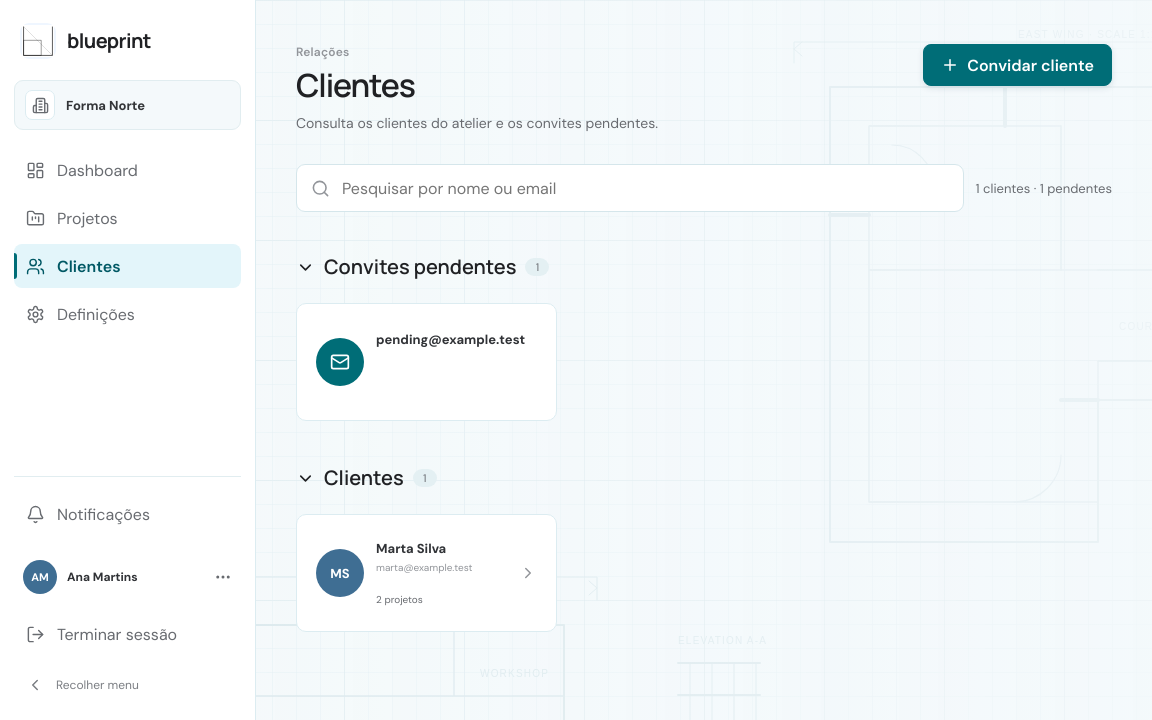
CompanyClientPage › searches both groups and shows filtered group counts and empty states
Expected: the text "pending@example.test" is shown, [376,330,525,348]
Step 1. Type "missing" into the search field with placeholder "Pesquisar por nome ou email" → (644, 188), box [340,166,948,210]
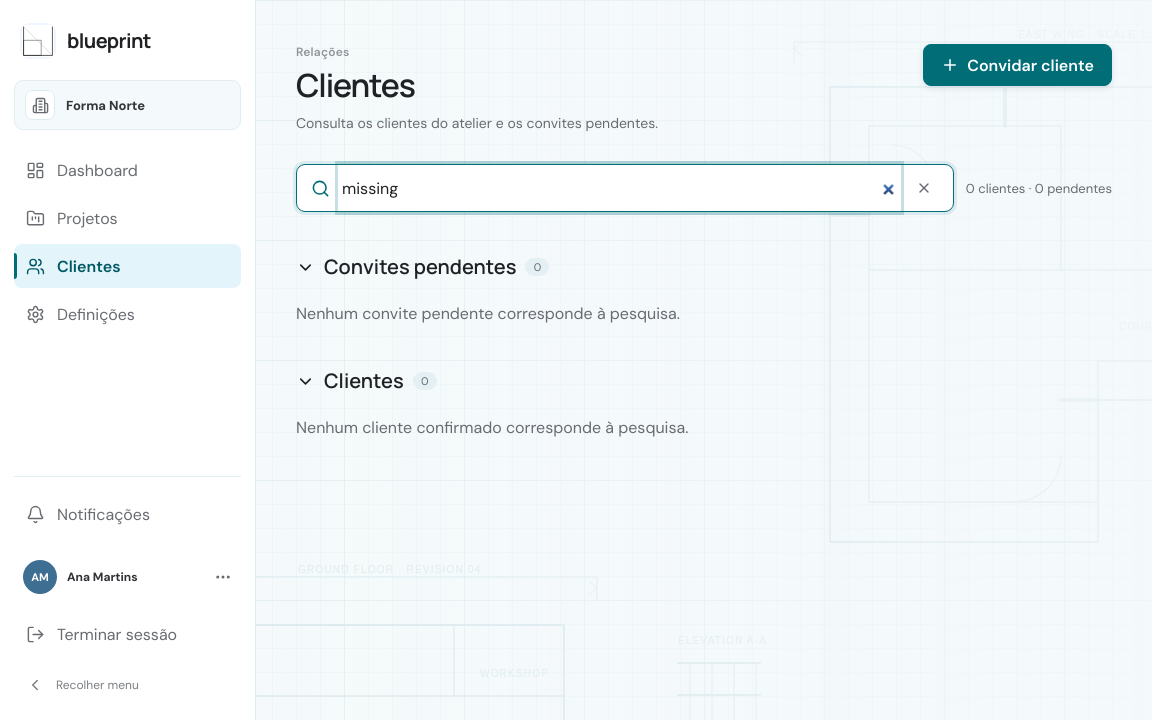
Expected: the text "0 clientes · 0 pendentes" is shown, [966,180,1112,196]
Expected: the text "Nenhum convite pendente corresponde à pesquisa." is shown, [296,303,680,324]
Expected: the text "Nenhum cliente confirmado corresponde à pesquisa." is shown, [296,417,688,438]
